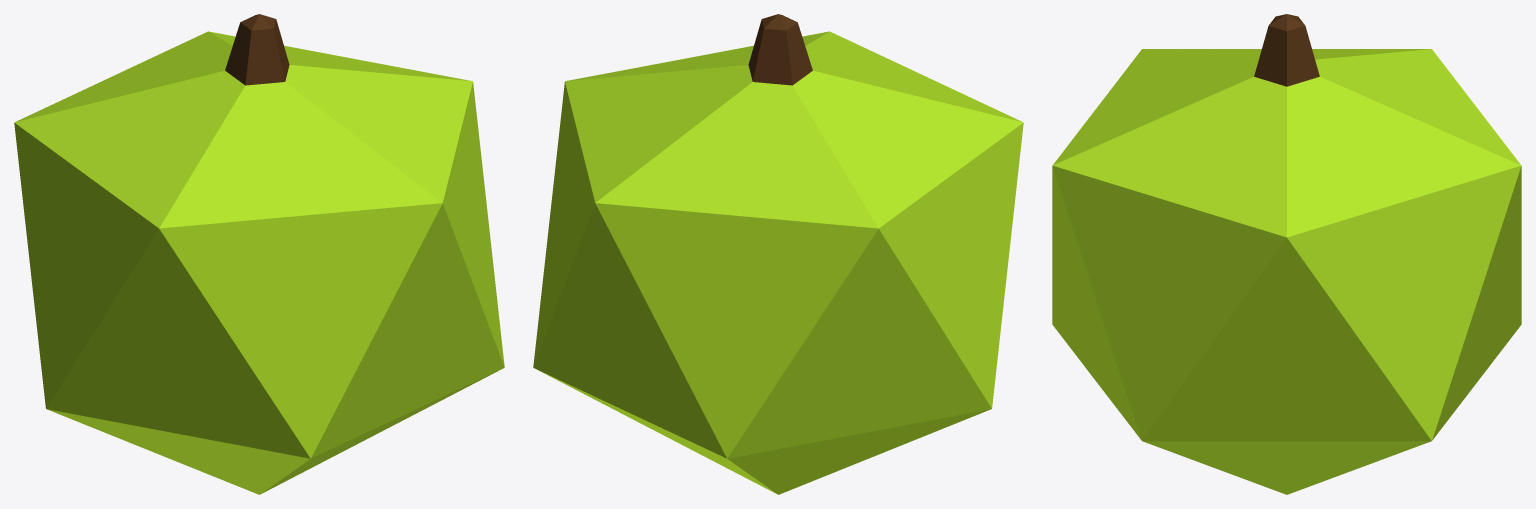
Rendered from manzanaVerde.fbx.
3 renders of one model, left to right at view 1: azimuth 30°, elevation 25°; view 2: azimuth 150°, elevation 25°; view 3: azimuth 270°, elevation 25°, orthographic.
Parts seen in each view (by area): view 1: ManzanaVerde; view 2: ManzanaVerde; view 3: ManzanaVerde.
Boxes of the visible parts, x1,y1,x2,y2 form: ManzanaVerde: (14,14,504,494); ManzanaVerde: (533,14,1023,494); ManzanaVerde: (1052,14,1521,494).
Size of the model in its own units: 5.56 by 5.99 by 5.29.
